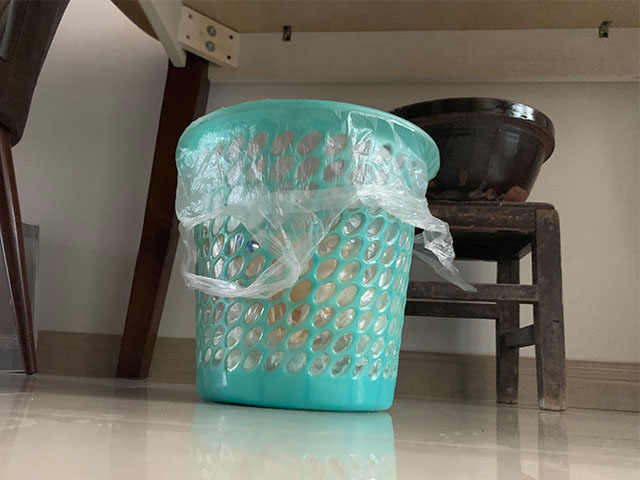stool: (404, 201, 569, 413)
trashcan: (173, 97, 441, 414)
